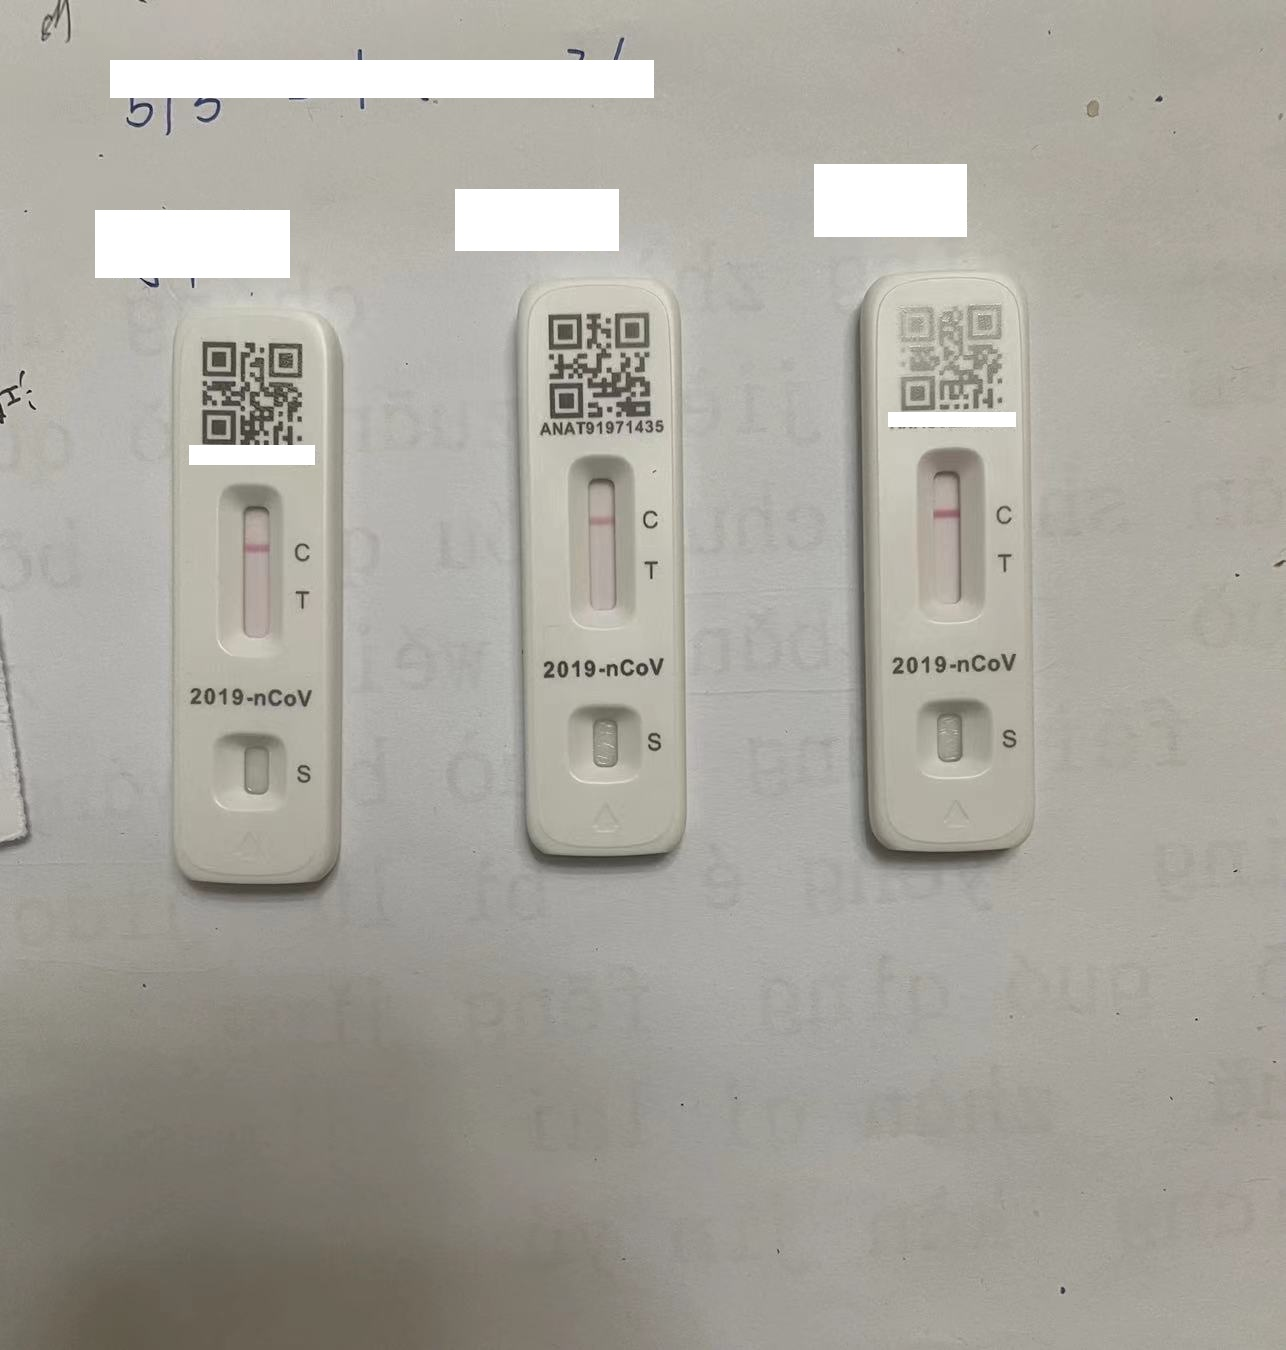negative: (914, 450, 983, 624), (568, 454, 632, 623), (221, 489, 282, 655)
